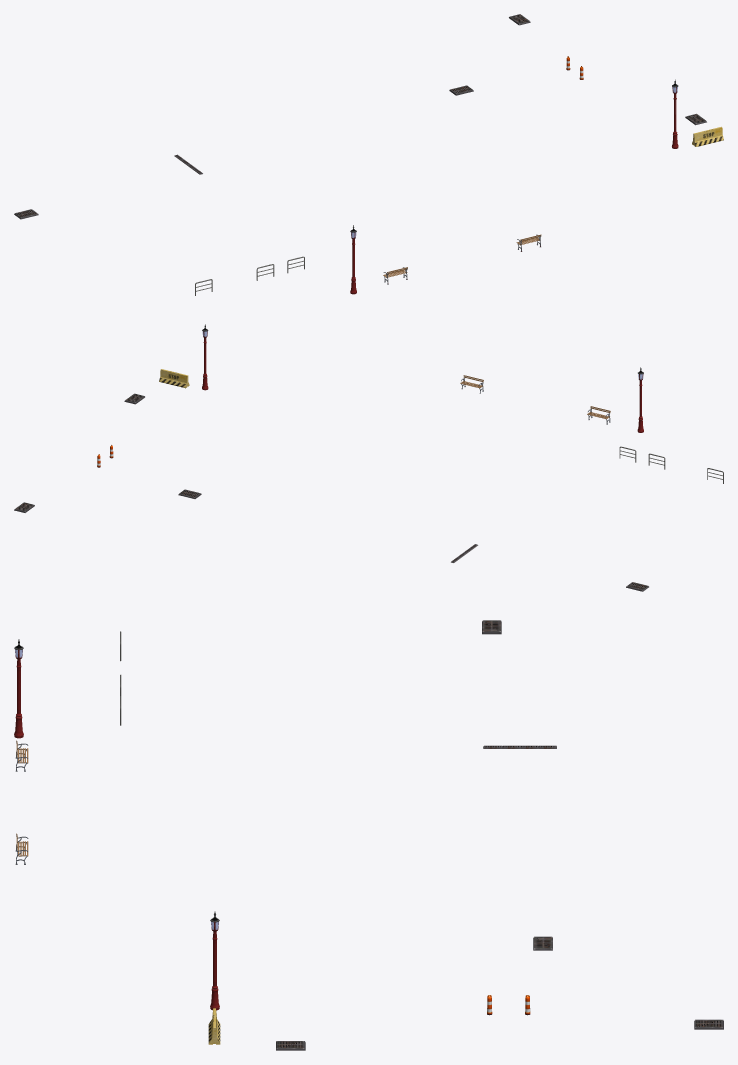
File: Pole02.fbx
3 views of the same model, one above another, from view 1: azimuth 30°, elevation 25°; view 2: azimuth 150°, elevation 25°; view 3: azimuth 270°, elevation 25° (orthographic). The views are drawn at different scales.
Visible parts, largest first — view 1: MeshBaker__10__mesh_mesh; view 2: MeshBaker__10__mesh_mesh; view 3: MeshBaker__10__mesh_mesh.
Boxes of the visible parts, box(x1,y1,x2,y2) form: MeshBaker__10__mesh_mesh: box(14, 14, 723, 295); MeshBaker__10__mesh_mesh: box(14, 324, 723, 591); MeshBaker__10__mesh_mesh: box(14, 620, 723, 1050).
Bounding box in the file's own units: 4898 × 545 × 3428.
Materials: 1 (1 with a texture image).
